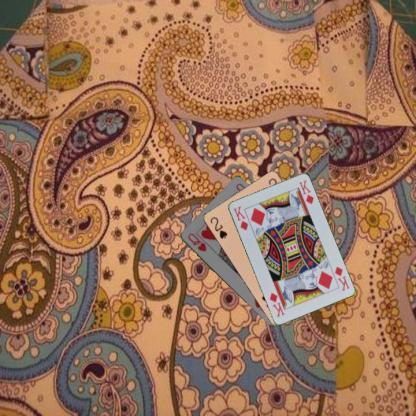2s: (208, 214, 228, 239)
Kd: (231, 203, 249, 232), (332, 263, 350, 292)
Qh: (184, 230, 208, 252)
